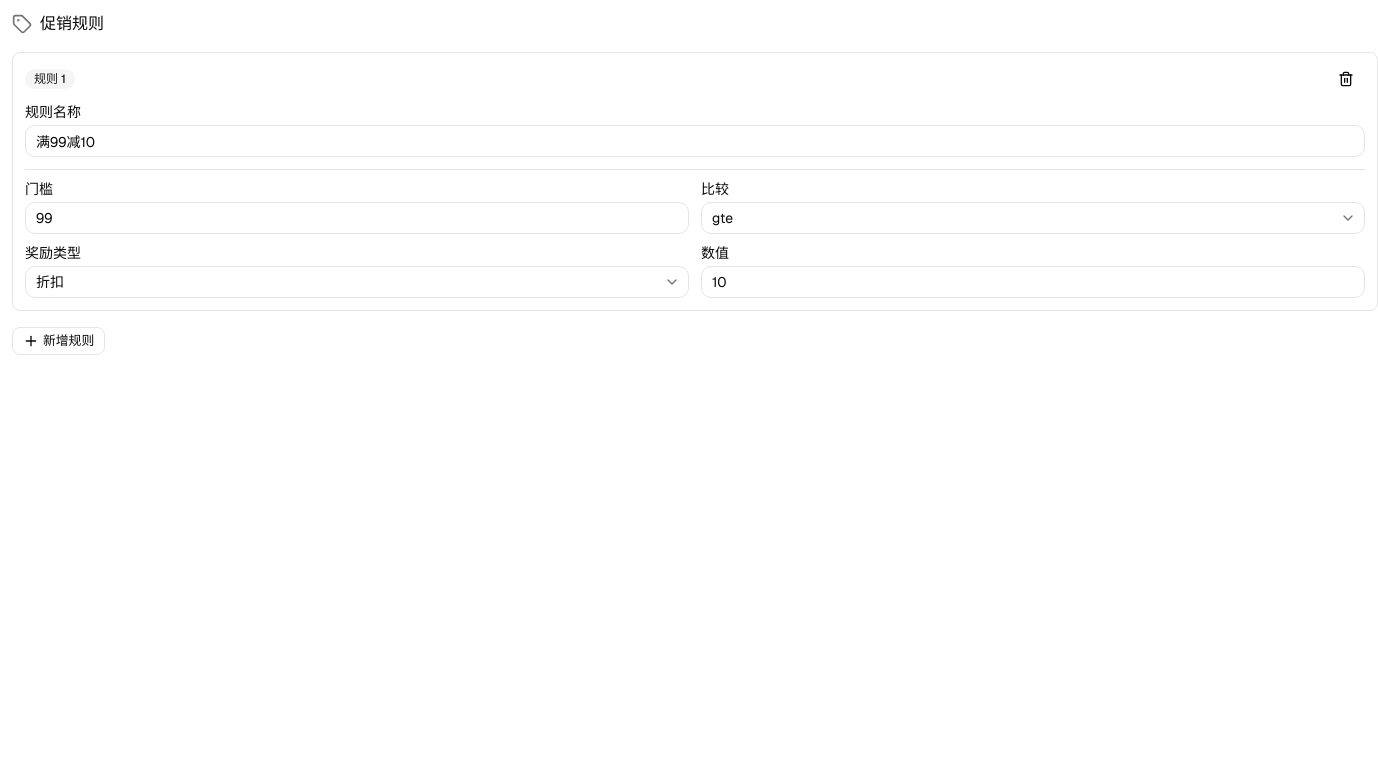
Test: PromotionRuleEditor › adds a new rule when the add button is clicked
Click the button "新增规则".
click(59, 341)  # box [12, 327, 105, 355]
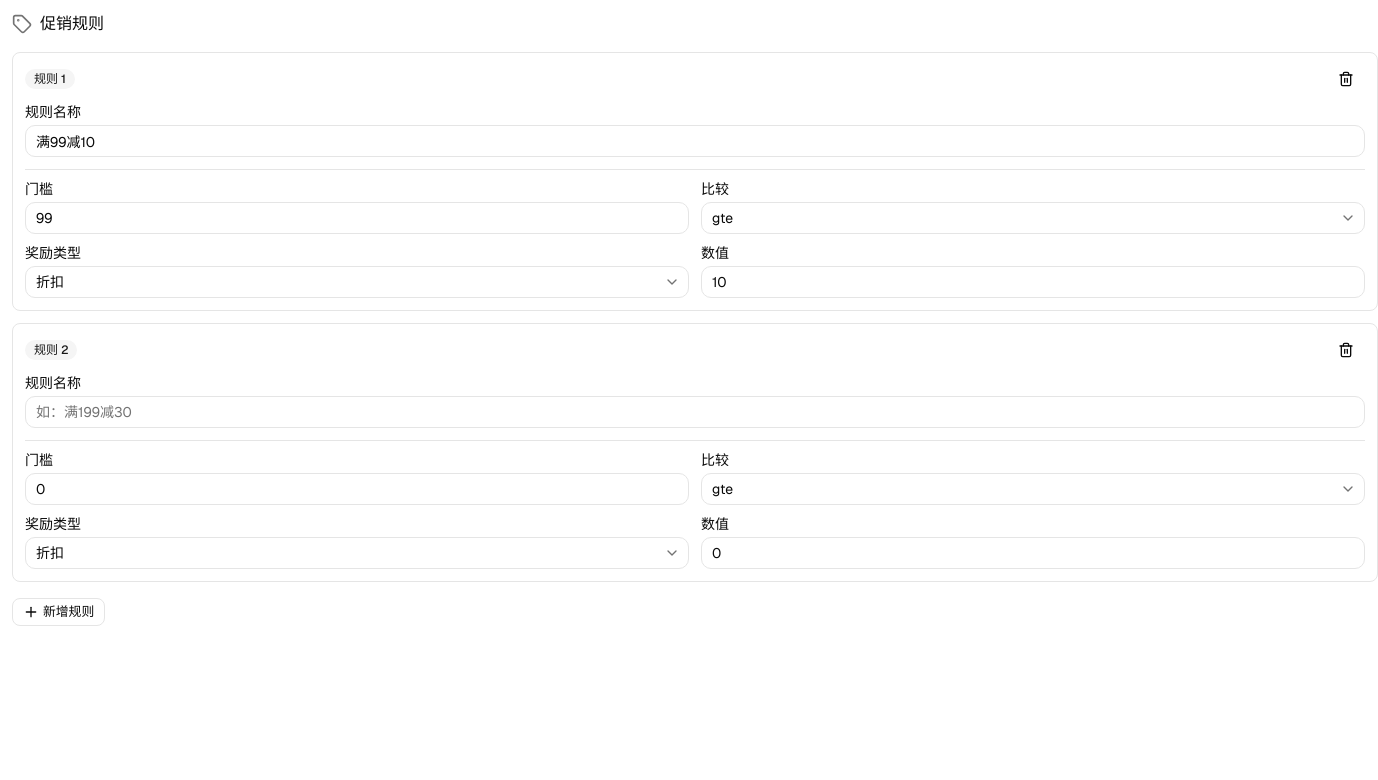
Now the icon "规则 2" is shown, box [25, 340, 78, 360]
